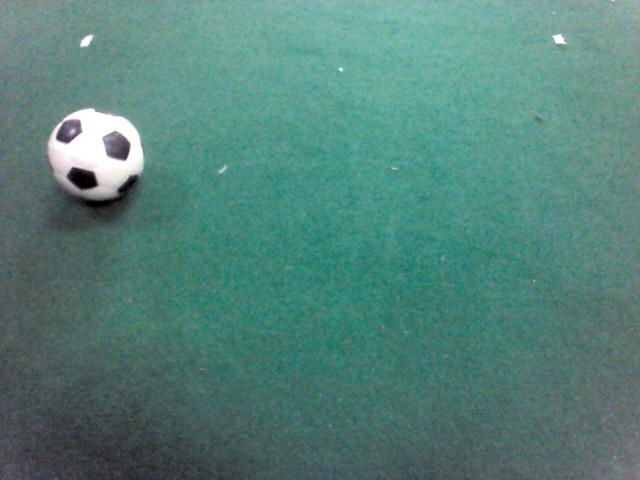ball: (46, 106, 146, 206)
